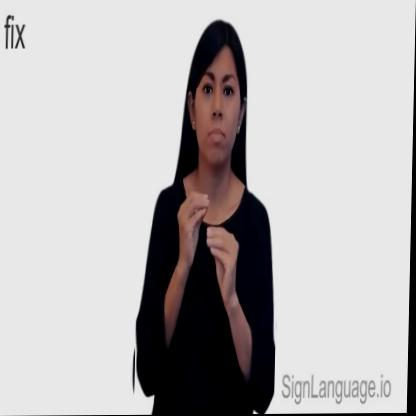Fix: (136, 14, 283, 415)
